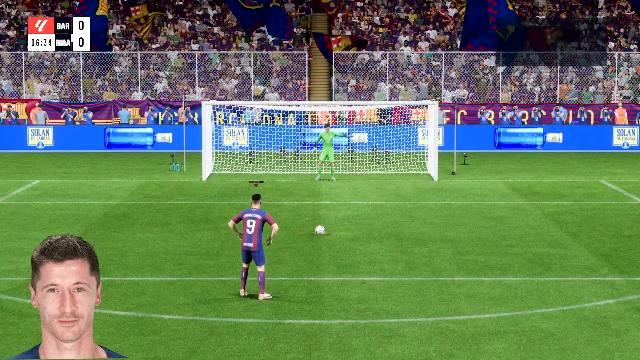bottom-left: (206, 148, 294, 180)
bottom-right: (359, 148, 433, 180)
center-down: (290, 148, 360, 180)
center-up: (294, 104, 358, 144)
circle: (312, 231, 330, 235)
football: (314, 227, 326, 235)
goalkeeper: (302, 122, 351, 180)
player: (229, 196, 279, 302)
top-left: (206, 104, 292, 146)
top-right: (356, 105, 434, 143)
